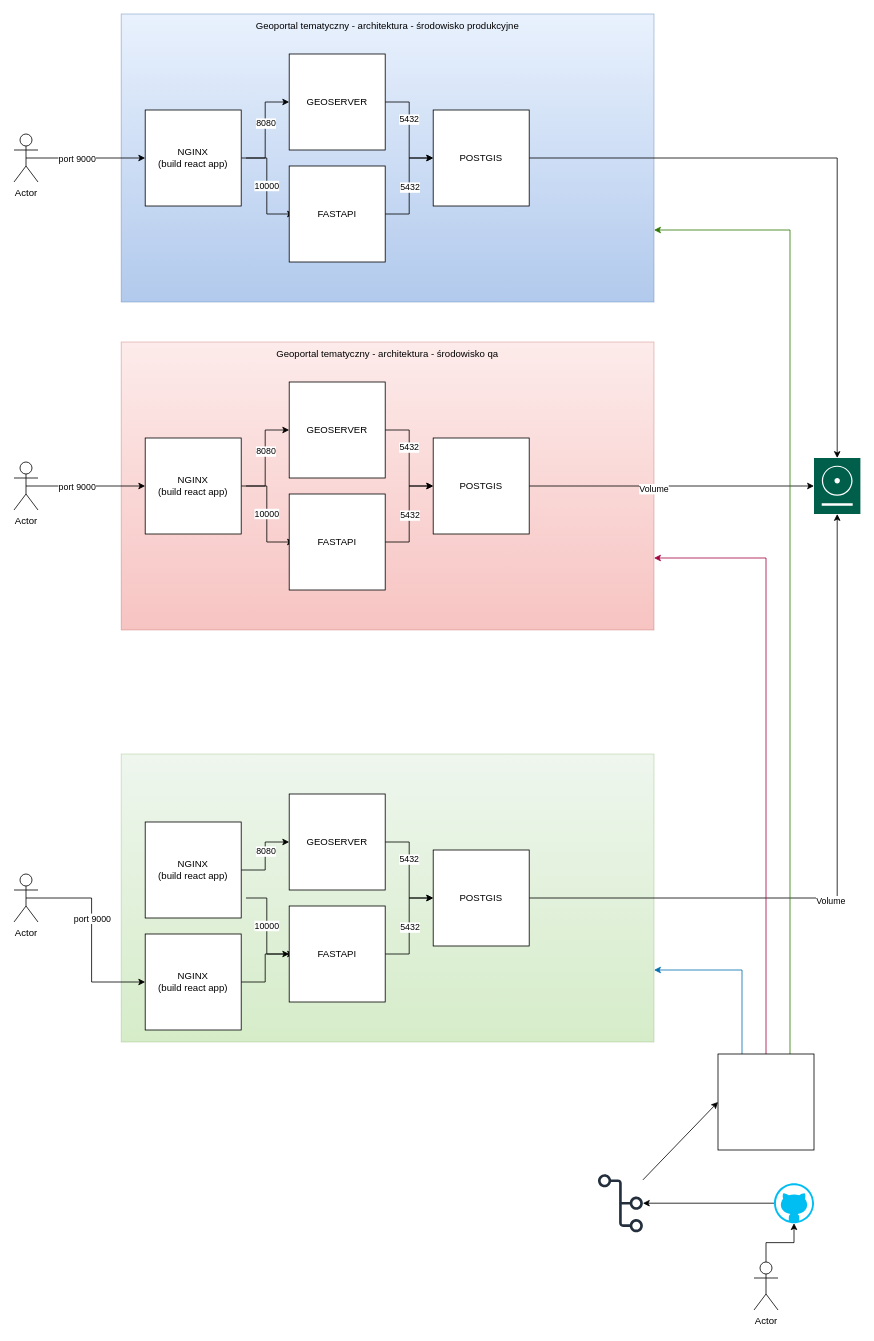
The diagram is 874 pixels wide and 1341 high, and some of its shapes have lost their labels. Here are the shapes that lost their labels. From the top down, the box of each, then its label:
(120, 753, 654, 1042): Geoportal tematyczny - architektura - środowisko testowe
(717, 1053, 814, 1150): GITHUB RUNNER
